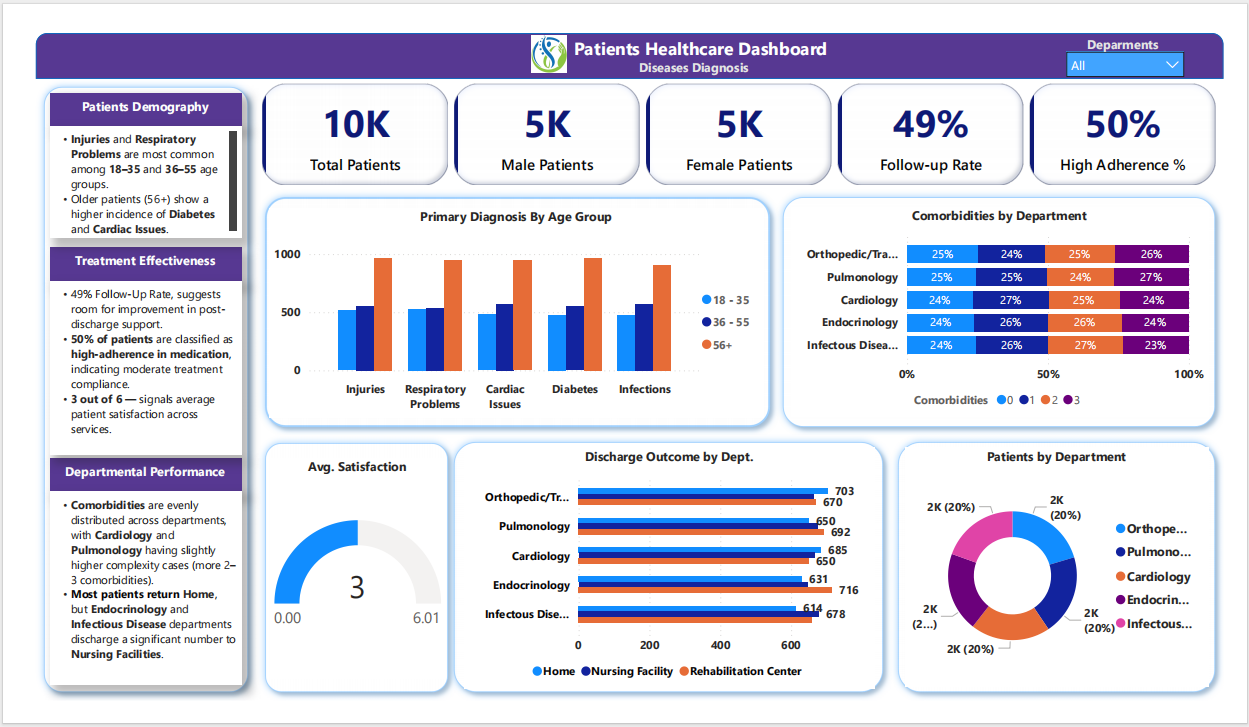

The dashboard page shown, as its layout file describes it:
{"tool":"powerbi","page":{"name":"Dashboard","canvas":[1280,720],"ordinal":0},"visuals":[{"type":"cardVisual","fields":{"Data":["All Measures.Patient Count","All Measures.Male Patients","All Measures.Female Patients","All Measures.Follow-up Rate","All Measures.High Adherence %"]},"box":[248.4,56.3,1031.9,118],"z":0},{"type":"shape","box":[11,6.9,1269.3,49.4],"z":1000},{"type":"textbox","box":[570.8,5.5,301.9,39.8],"z":2000},{"type":"textbox","box":[640.8,30.2,146.8,28.8],"z":3000},{"type":"image","box":[533.8,5.5,50.8,48],"z":4000},{"type":"shape","box":[801.2,174.2,478.5,261.4],"z":5000},{"type":"shape","box":[246.6,174.2,557.1,261.4],"z":6000},{"type":"shape","box":[449.1,435.3,476.1,284.7],"z":7000},{"type":"shape","box":[246.6,435.6,213.5,284.7],"z":8000},{"type":"shape","box":[923.5,435,356.8,285.4],"z":9000},{"type":"clusteredColumnChart","title":"Primary Diagnosis By Age Group","fields":{"Y":["All Measures.Total Patients"],"Series":["Health_care_patient_Dataset.Age Group"],"Category":["Health_care_patient_Dataset.Primary Diagnosis"]},"box":[261.4,193.9,526.4,224.5],"z":10000},{"type":"hundredPercentStackedBarChart","title":"Comorbidities by Department","fields":{"Y":["All Measures.Total Patients"],"Category":["Health_care_patient_Dataset.Departments"],"Series":["Health_care_patient_Dataset.Comorbidities"]},"box":[818.4,192.6,445.4,224.5],"z":11000},{"type":"gauge","title":"Avg. Satisfaction","fields":{"Y":["All Measures.Avg. Care Satisfaction"]},"box":[261.4,461.4,187.7,234.4],"z":12000},{"type":"clusteredBarChart","title":"Discharge Outcome by Dept.","fields":{"Category":["Health_care_patient_Dataset.Departments"],"Series":["Health_care_patient_Dataset.Discharge Destination"],"Y":["All Measures.Total Patients"]},"box":[468.7,450.3,438,256.4],"z":13000},{"type":"shape","box":[11,56.4,235.6,663.8],"z":14000},{"type":"donutChart","title":"Patients by Department","fields":{"Category":["Health_care_patient_Dataset.Departments"],"Series":["Health_care_patient_Dataset.Departments"],"Y":["All Measures.Total Patients"]},"box":[940,450.1,323.8,255.2],"z":15000},{"type":"textbox","box":[26.1,236,204.5,35.7],"z":16000},{"type":"textbox","box":[26.1,461.1,204.5,35.7],"z":17000},{"type":"textbox","box":[26.1,271.7,204.5,185.2],"z":18000},{"type":"textbox","box":[26.1,496.7,204.5,205.8],"z":19000},{"type":"slicer","fields":{"Values":["Health_care_patient_Dataset.Departments"]},"box":[1101.8,17.2,146,35.6],"z":20000},{"type":"textbox","box":[1082.2,4.9,181.6,28.2],"z":21000},{"type":"textbox","box":[25.8,71.2,204.9,35.6],"z":22000},{"type":"textbox","box":[25.8,106.7,204.9,119],"z":23000}]}

Visuals, with their boxes on the page's 1280x720 design canvas (x1, y1, x2, y2). These are canvas units, not pixel positions in the 1249x727 screenshot, which may show the page scaled, cropped or inside an application window:
cardVisual - All Measures.Patient Count x All Measures.Male Patients: l=248, t=56, r=1280, b=174
shape: l=11, t=7, r=1280, b=56
textbox: l=571, t=6, r=873, b=45
textbox: l=641, t=30, r=788, b=59
image: l=534, t=6, r=585, b=54
shape: l=801, t=174, r=1280, b=436
shape: l=247, t=174, r=804, b=436
shape: l=449, t=435, r=925, b=720
shape: l=247, t=436, r=460, b=720
shape: l=924, t=435, r=1280, b=720
"Primary Diagnosis By Age Group" clusteredColumnChart: l=261, t=194, r=788, b=418
"Comorbidities by Department" hundredPercentStackedBarChart: l=818, t=193, r=1264, b=417
"Avg. Satisfaction" gauge: l=261, t=461, r=449, b=696
"Discharge Outcome by Dept." clusteredBarChart: l=469, t=450, r=907, b=707
shape: l=11, t=56, r=247, b=720
"Patients by Department" donutChart: l=940, t=450, r=1264, b=705
textbox: l=26, t=236, r=231, b=272
textbox: l=26, t=461, r=231, b=497
textbox: l=26, t=272, r=231, b=457
textbox: l=26, t=497, r=231, b=702
slicer - Health_care_patient_Dataset.Departments: l=1102, t=17, r=1248, b=53
textbox: l=1082, t=5, r=1264, b=33
textbox: l=26, t=71, r=231, b=107
textbox: l=26, t=107, r=231, b=226
